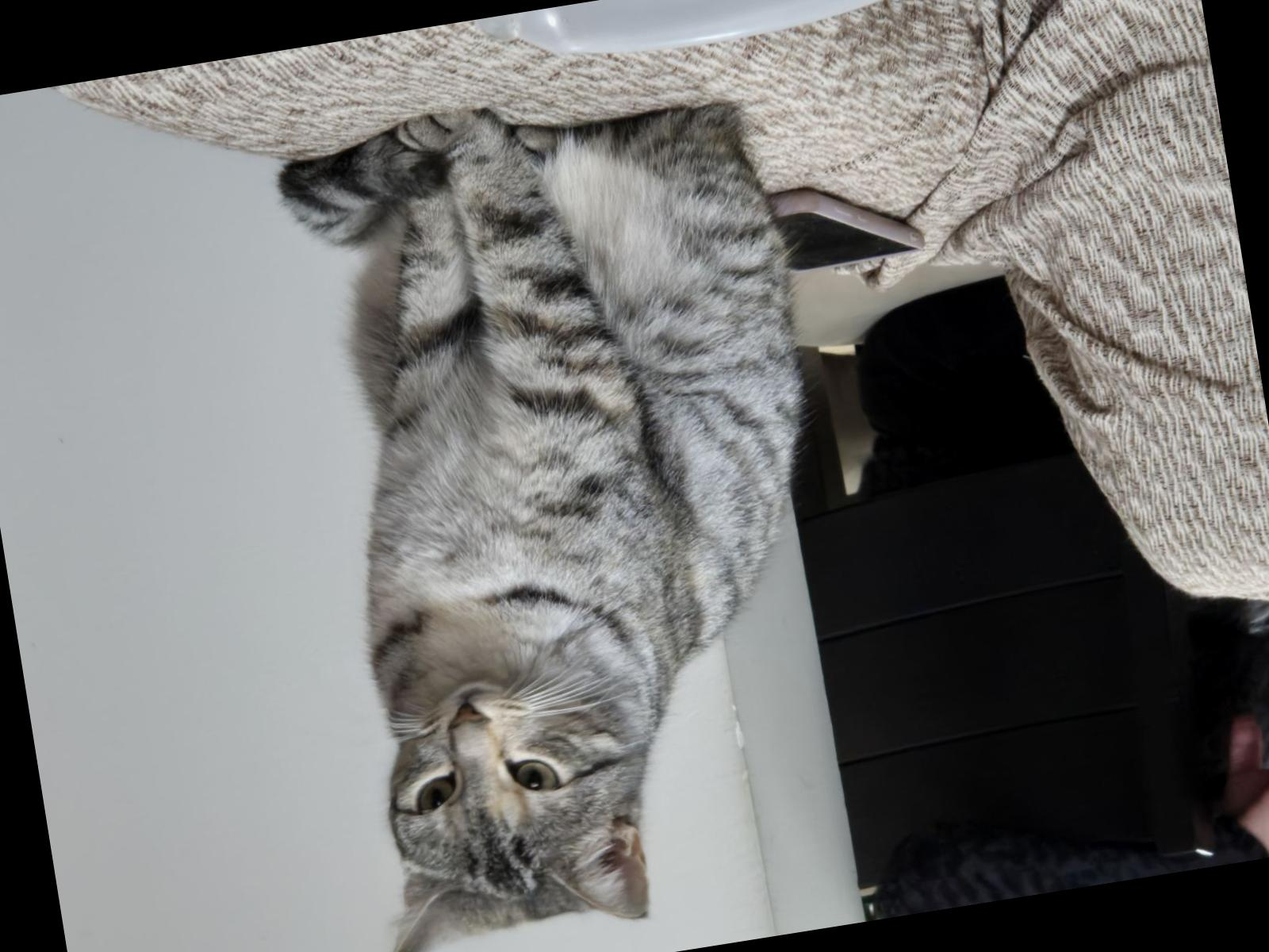macka: (250, 56, 879, 952)
